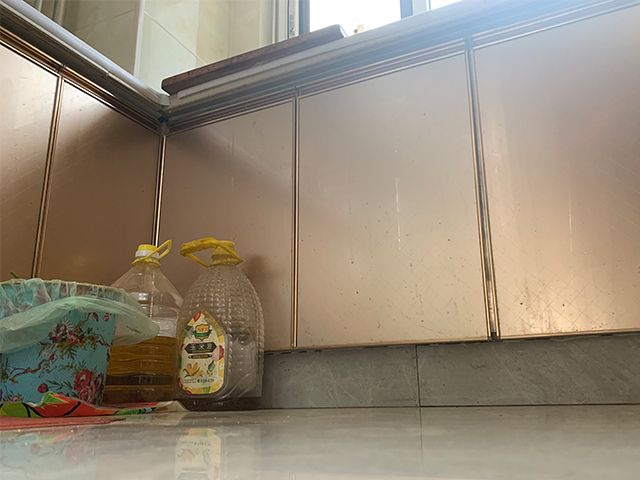cabinet: (1, 1, 640, 410)
carpet: (1, 416, 123, 431)
trashcan: (1, 276, 124, 419)
